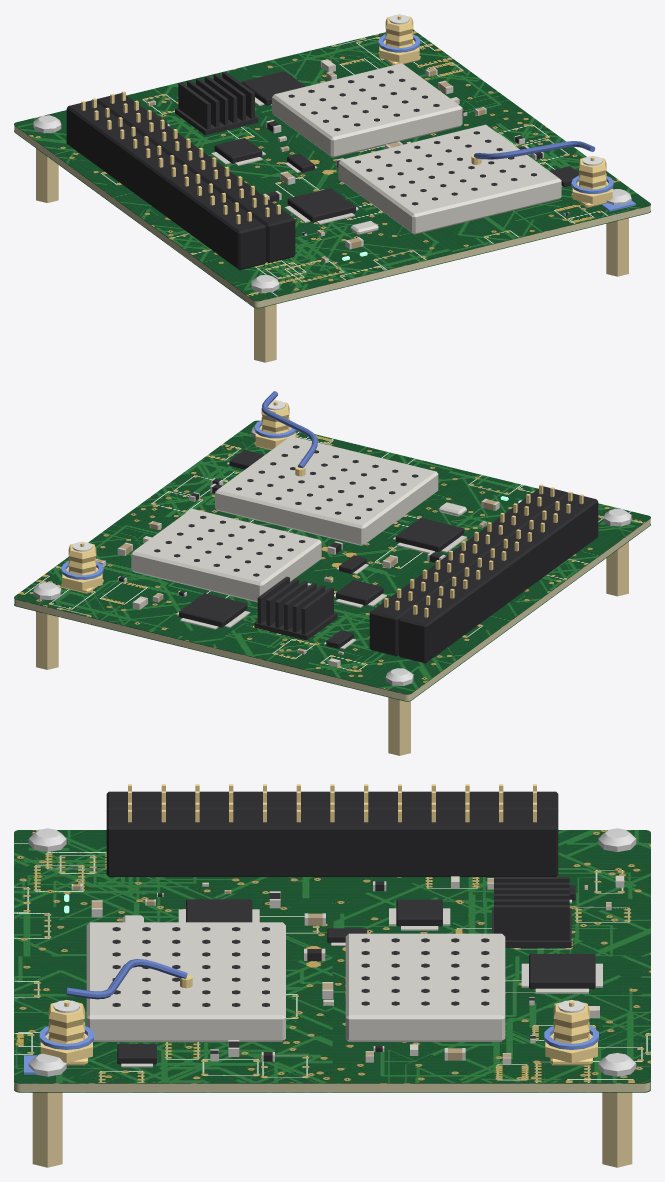
File: transceiver_board.glb
3 views of the same model, one above another, from view 1: azimuth 30°, elevation 25°; view 2: azimuth 150°, elevation 25°; view 3: azimuth 270°, elevation 25° (orthographic). The views are drawn at different scales.
Visible parts, largest first — view 1: transceiver_board; view 2: transceiver_board; view 3: transceiver_board.
Boxes of the visible parts, left/top/right/bottom form: transceiver_board: left=14, top=14, right=650, bottom=362; transceiver_board: left=14, top=391, right=650, bottom=755; transceiver_board: left=14, top=784, right=650, bottom=1167.
Bounding box in the file's own units: 0.0902 × 0.0268 × 0.0959.
Materials: 15 (1 with a texture image).
